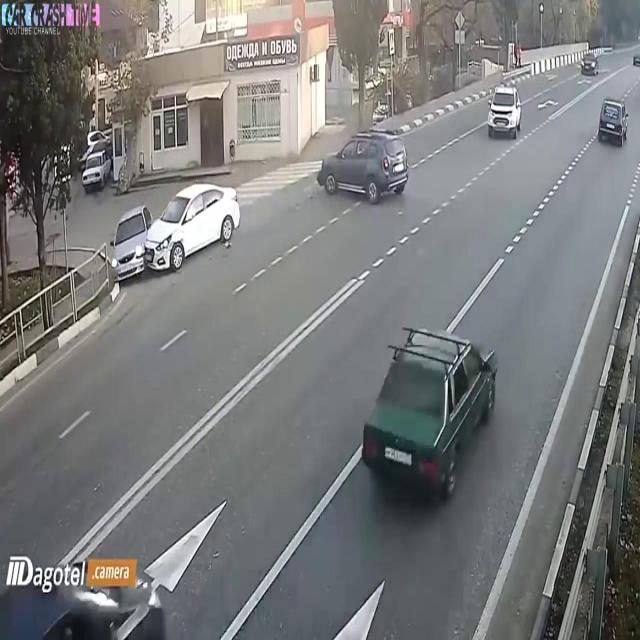accident: (96, 169, 247, 286)
